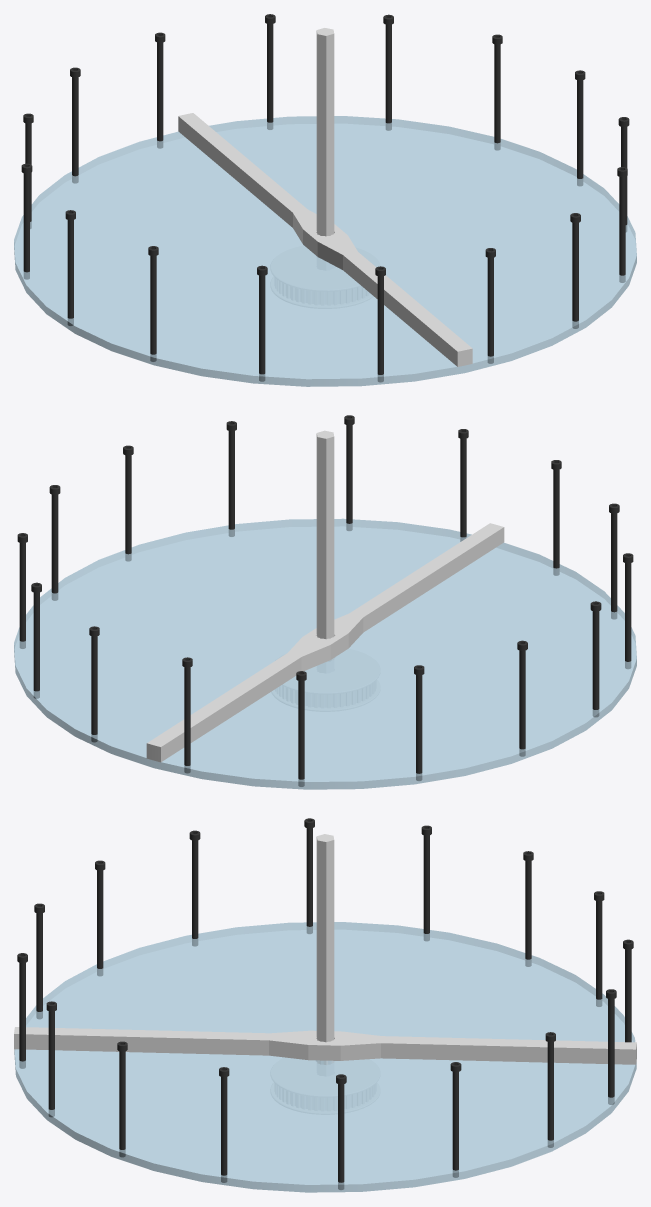
3 renders of one model, top to bottom at view 1: azimuth 30°, elevation 25°; view 2: azimuth 150°, elevation 25°; view 3: azimuth 270°, elevation 25°, orthographic.
Parts seen in each view (by area): view 1: Hopper Base, #10-32 x 3-1/2" L SHCS (Steel, Black Oxide) (×15), Paddle, 1/2" Hex (8.75" L, 7075 Aluminum); view 2: Hopper Base, #10-32 x 3-1/2" L SHCS (Steel, Black Oxide) (×16), Paddle, 1/2" Hex (8.75" L, 7075 Aluminum); view 3: Hopper Base, Paddle, #10-32 x 3-1/2" L SHCS (Steel, Black Oxide) (×16), 1/2" Hex (8.75" L, 7075 Aluminum).
Boxes of the visible parts, bbox=[...] form: Hopper Base: bbox=[14, 116, 636, 386]; #10-32 x 3-1/2" L SHCS (Steel, Black Oxide) (×15): bbox=[21, 14, 629, 381]; Paddle: bbox=[178, 113, 472, 366]; 1/2" Hex (8.75" L, 7075 Aluminum): bbox=[316, 28, 334, 257]; Hopper Base: bbox=[14, 518, 636, 789]; #10-32 x 3-1/2" L SHCS (Steel, Black Oxide) (×16): bbox=[17, 415, 633, 786]; Paddle: bbox=[146, 523, 504, 762]; 1/2" Hex (8.75" L, 7075 Aluminum): bbox=[316, 430, 334, 660]; Hopper Base: bbox=[14, 922, 636, 1192]; Paddle: bbox=[14, 1027, 636, 1064]; #10-32 x 3-1/2" L SHCS (Steel, Black Oxide) (×16): bbox=[17, 818, 633, 1189]; 1/2" Hex (8.75" L, 7075 Aluminum): bbox=[316, 834, 334, 1064].
Bounding box in the file's own units: 0.4691 × 0.2222 × 0.4697.
